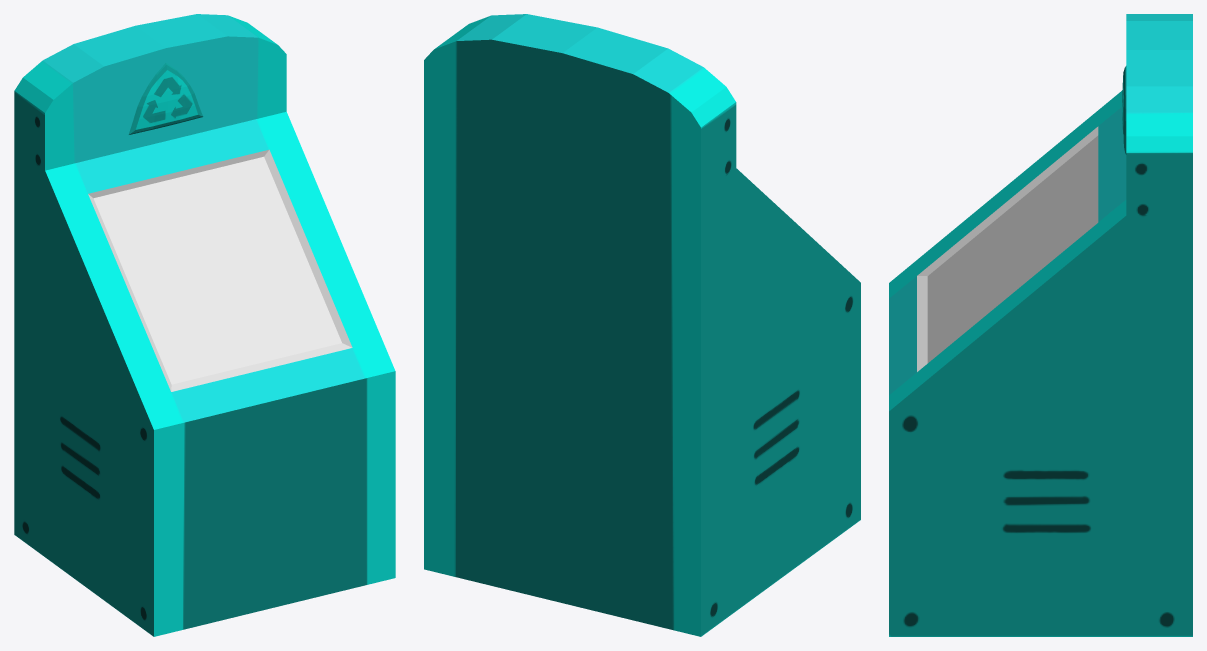
File: Recycle Machine.fbx
3 views of the same model, side by side, from view 1: azimuth 30°, elevation 25°; view 2: azimuth 150°, elevation 25°; view 3: azimuth 270°, elevation 25° (orthographic). The views are drawn at different scales.
Visible parts, largest first — view 1: RecycleMachine_Body, RecycleMachine_Sceen, icon_recycle; view 2: RecycleMachine_Body; view 3: RecycleMachine_Body, RecycleMachine_Sceen.
Part boxes in pixels (x1,y1,x2,y2): RecycleMachine_Body: [14, 14, 395, 636]; RecycleMachine_Sceen: [88, 149, 352, 391]; icon_recycle: [128, 63, 203, 134]; RecycleMachine_Body: [424, 14, 860, 636]; RecycleMachine_Body: [889, 14, 1192, 636]; RecycleMachine_Sceen: [917, 126, 1098, 371].
Size of the model in its own units: 100 by 190 by 100.
